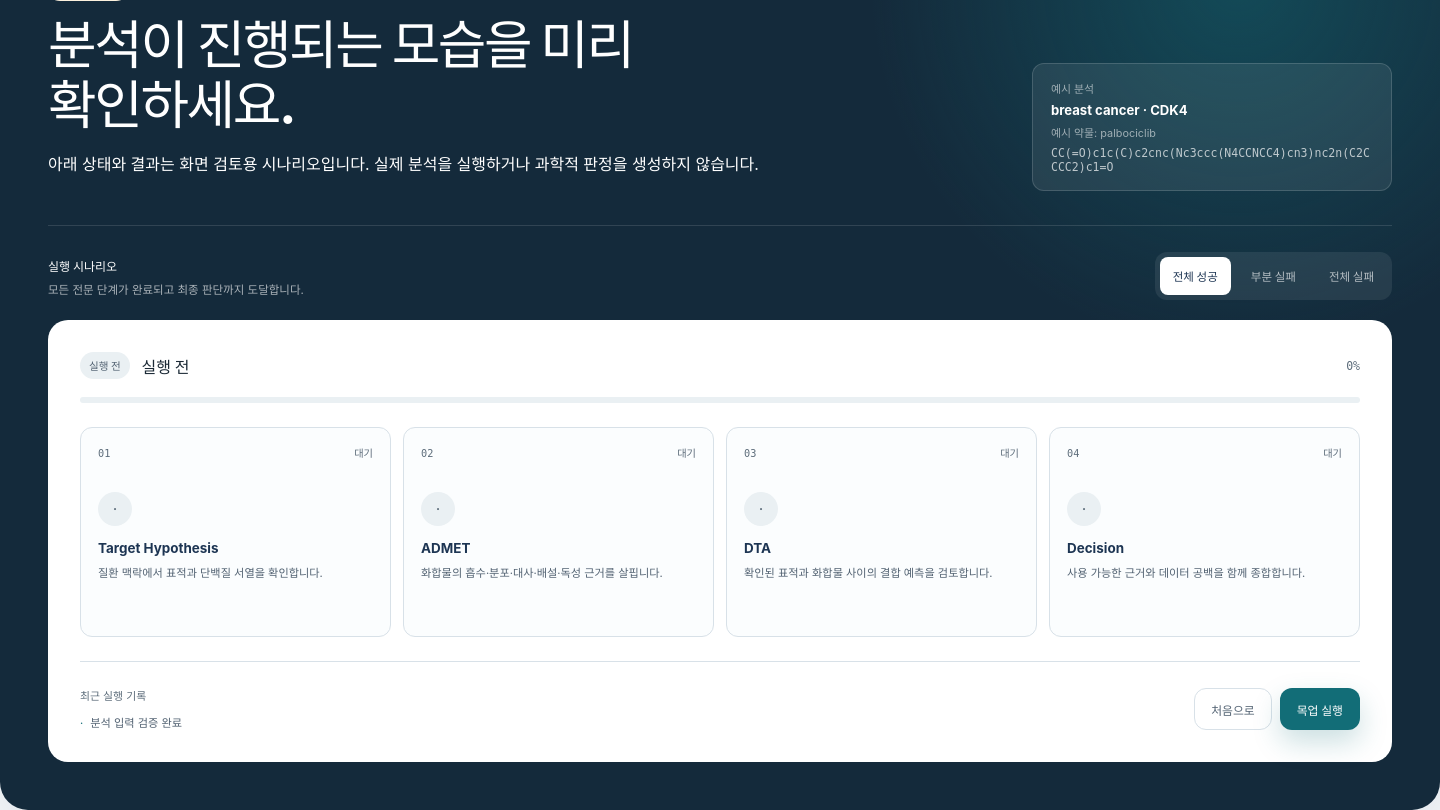
Test: AnalysisProgressPanel › returns a running scenario to its initial frame
The image size is (1440, 810).
(page scrolled)
Click the button "목업 실행": (1320, 709) [1280, 688, 1360, 730]
Wait 900 ms
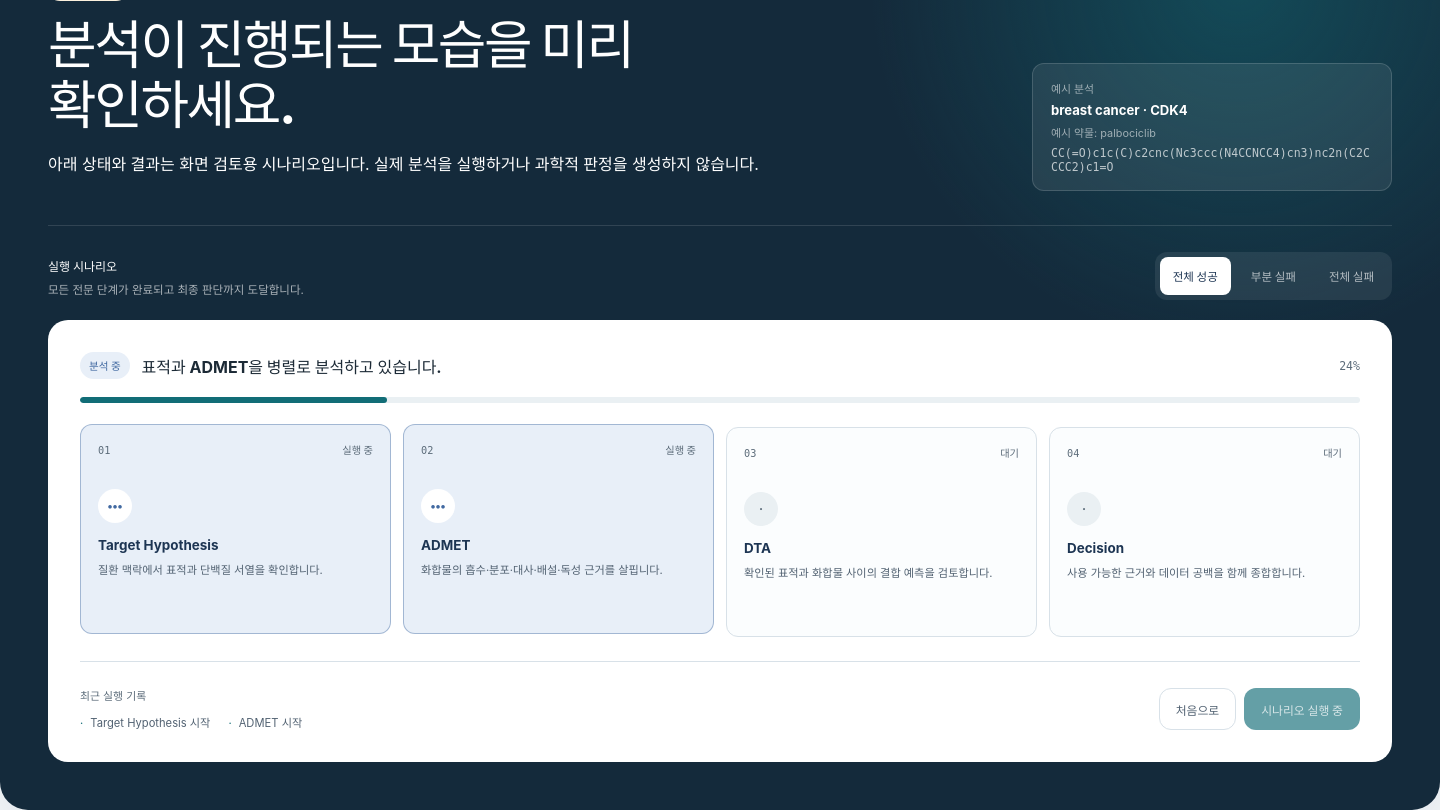
Click the button "처음으로": (1197, 709) [1159, 688, 1236, 730]
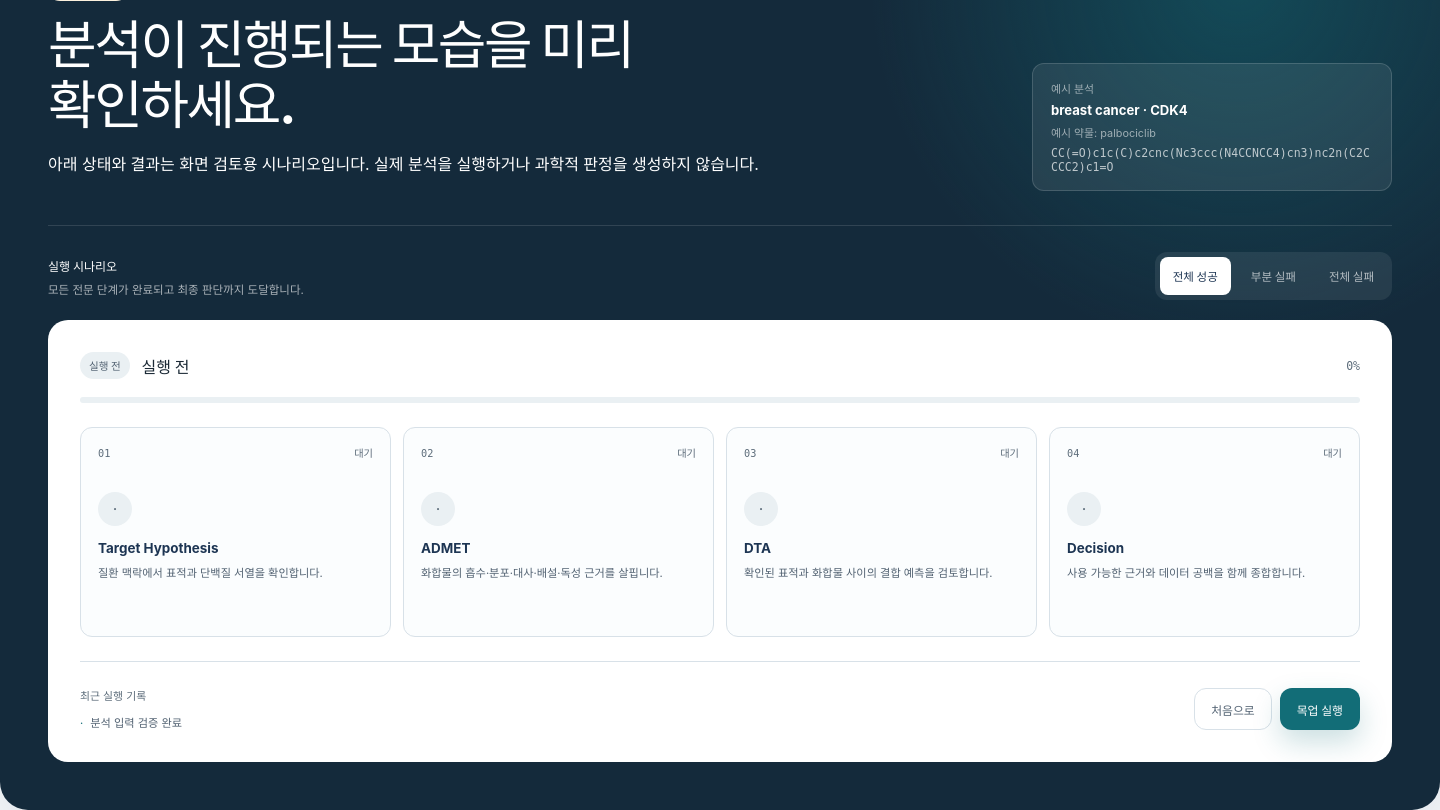
Expected: the 1st text "실행 전" is shown, [80, 352, 130, 379]
